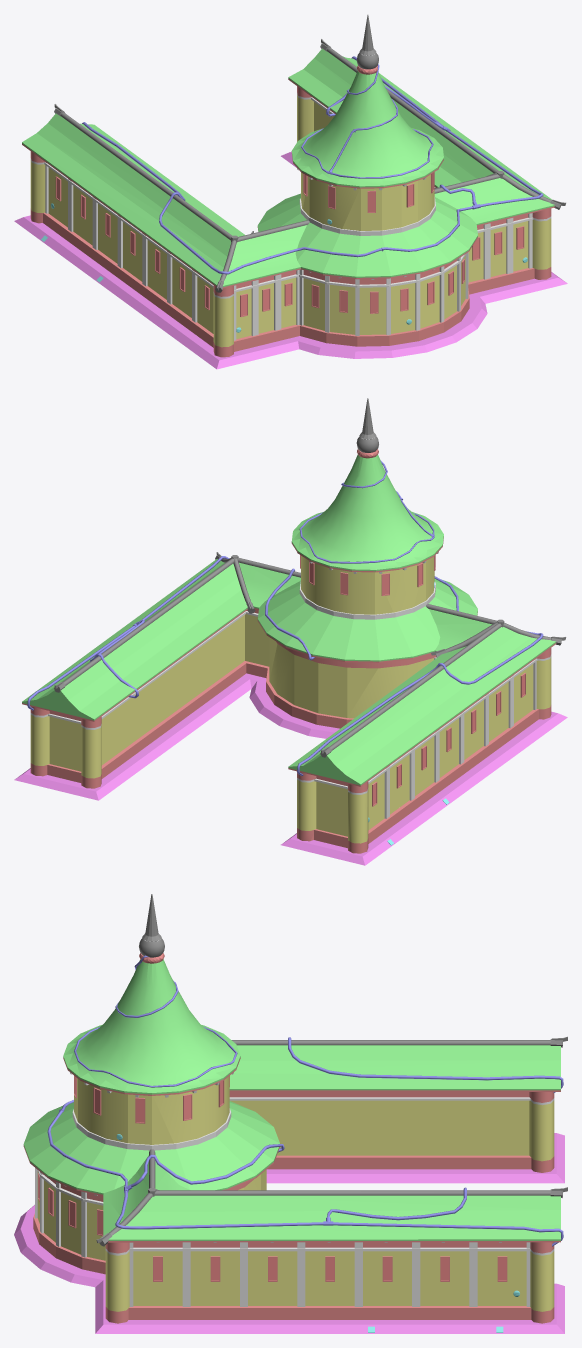
The model's file is SM_ENV_LKNVLD_Building_B_Lod1.gltf.
The picture shows the model from 3 angles, top to bottom: view 1: azimuth 30°, elevation 25°; view 2: azimuth 150°, elevation 25°; view 3: azimuth 270°, elevation 25°; orthographic projection. The views are drawn at different scales.
Visible parts, largest first — view 1: SM_ENV_LKNVLD_Building_B_Lod1; view 2: SM_ENV_LKNVLD_Building_B_Lod1; view 3: SM_ENV_LKNVLD_Building_B_Lod1.
Boxes of the visible parts, box(x1,y1,x2,y2) form: SM_ENV_LKNVLD_Building_B_Lod1: box(14, 14, 567, 369); SM_ENV_LKNVLD_Building_B_Lod1: box(14, 398, 567, 865); SM_ENV_LKNVLD_Building_B_Lod1: box(14, 894, 567, 1333).
Bounding box in the file's own units: 29 × 23.2 × 34.21.
